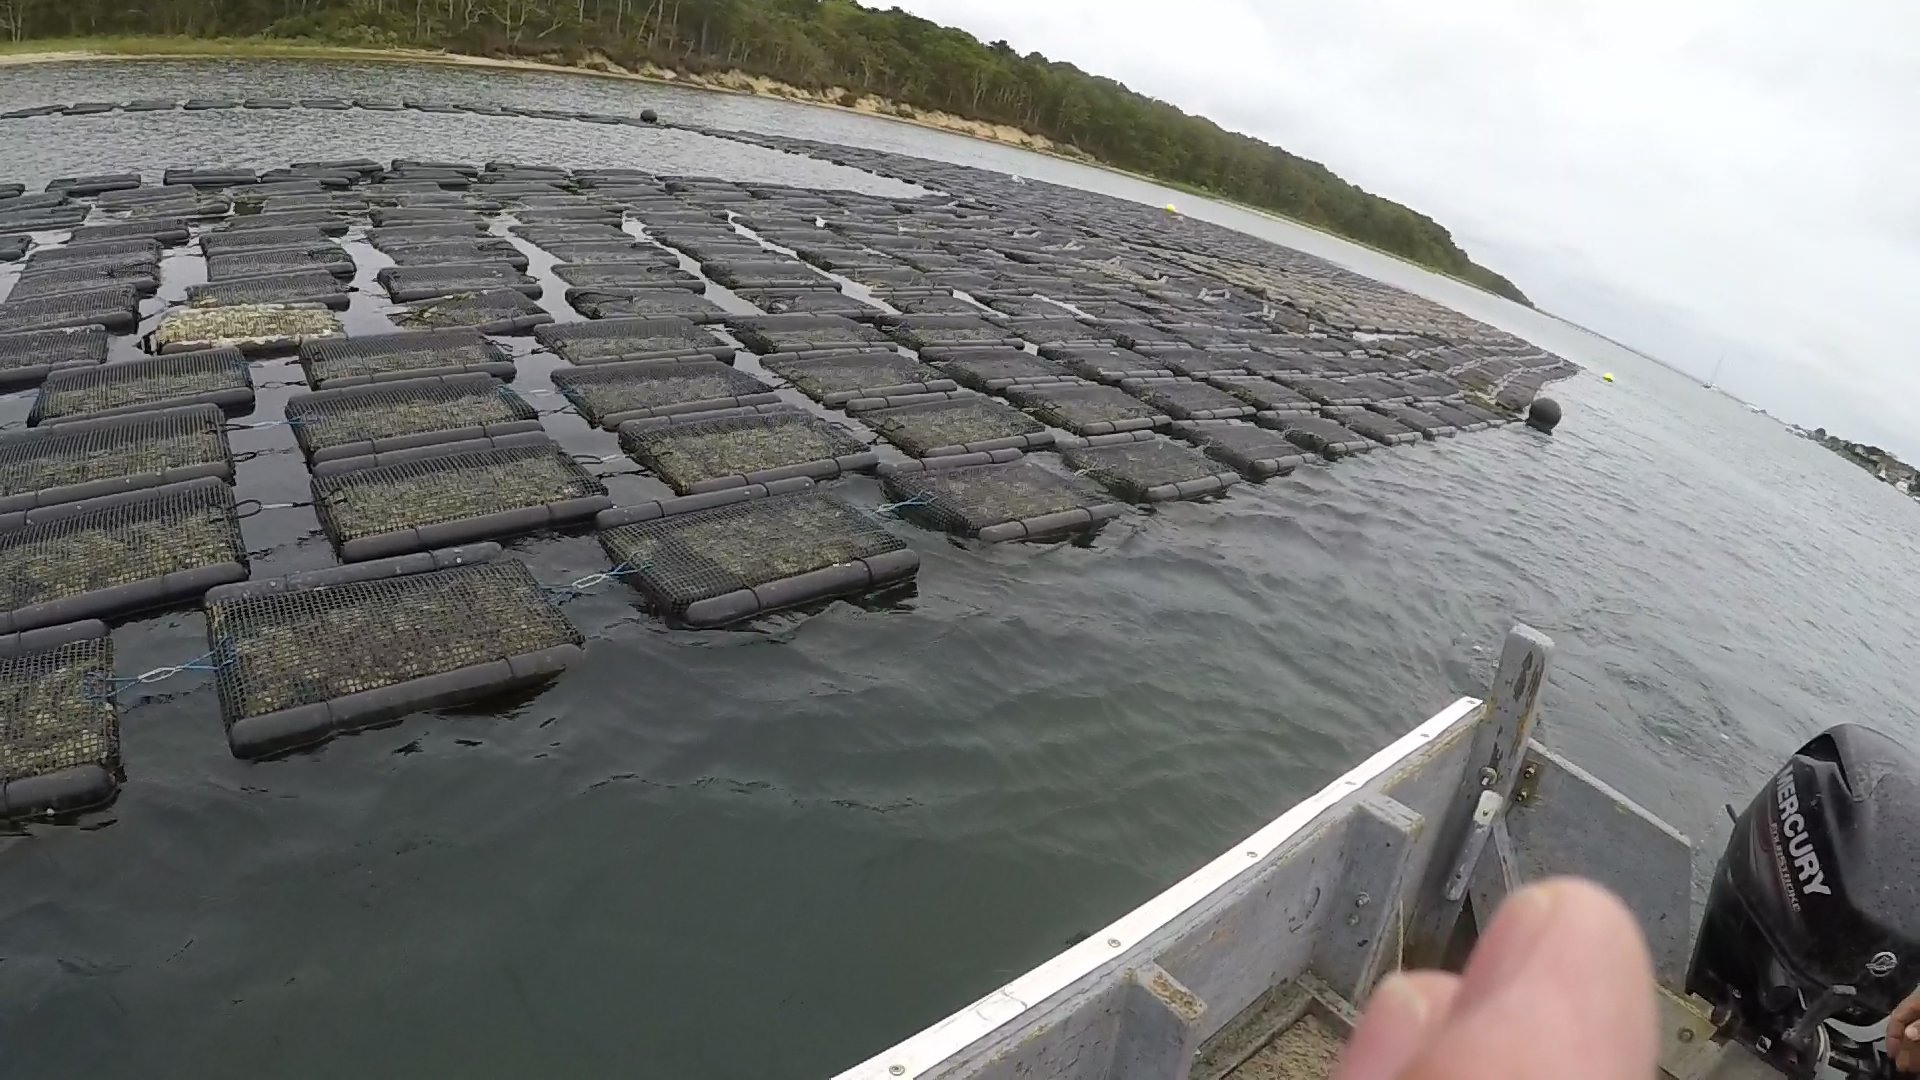bag: (204, 531, 585, 756), (593, 469, 922, 626), (890, 446, 1126, 546), (1056, 431, 1244, 504)
